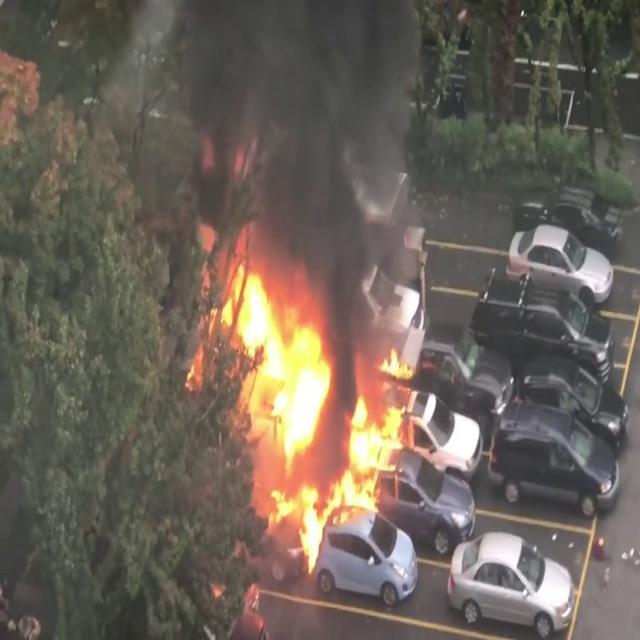Fire: (198, 256, 426, 564)
Smoke: (90, 1, 438, 308)
